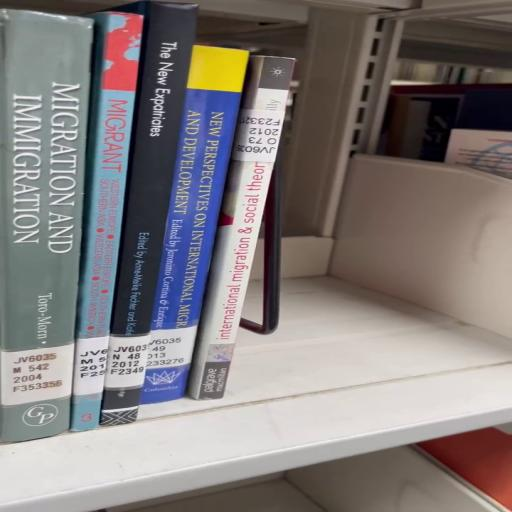reverse: (188, 57, 295, 401)
